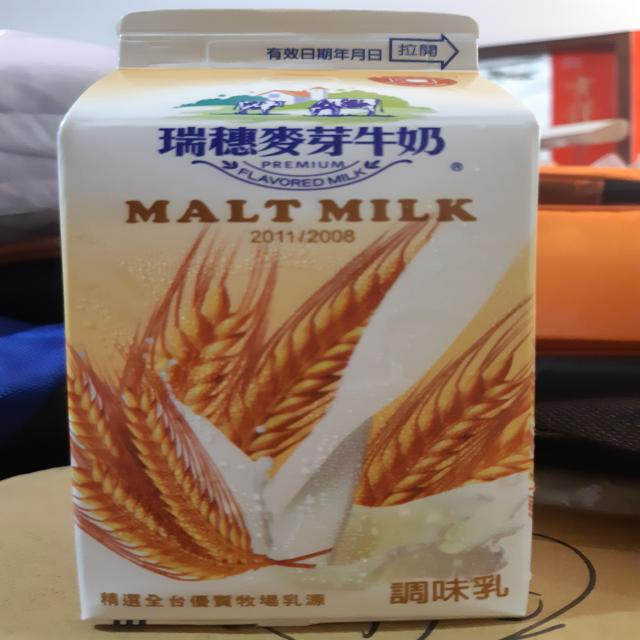RuiSui_MaltedMilk: (58, 0, 542, 640)
